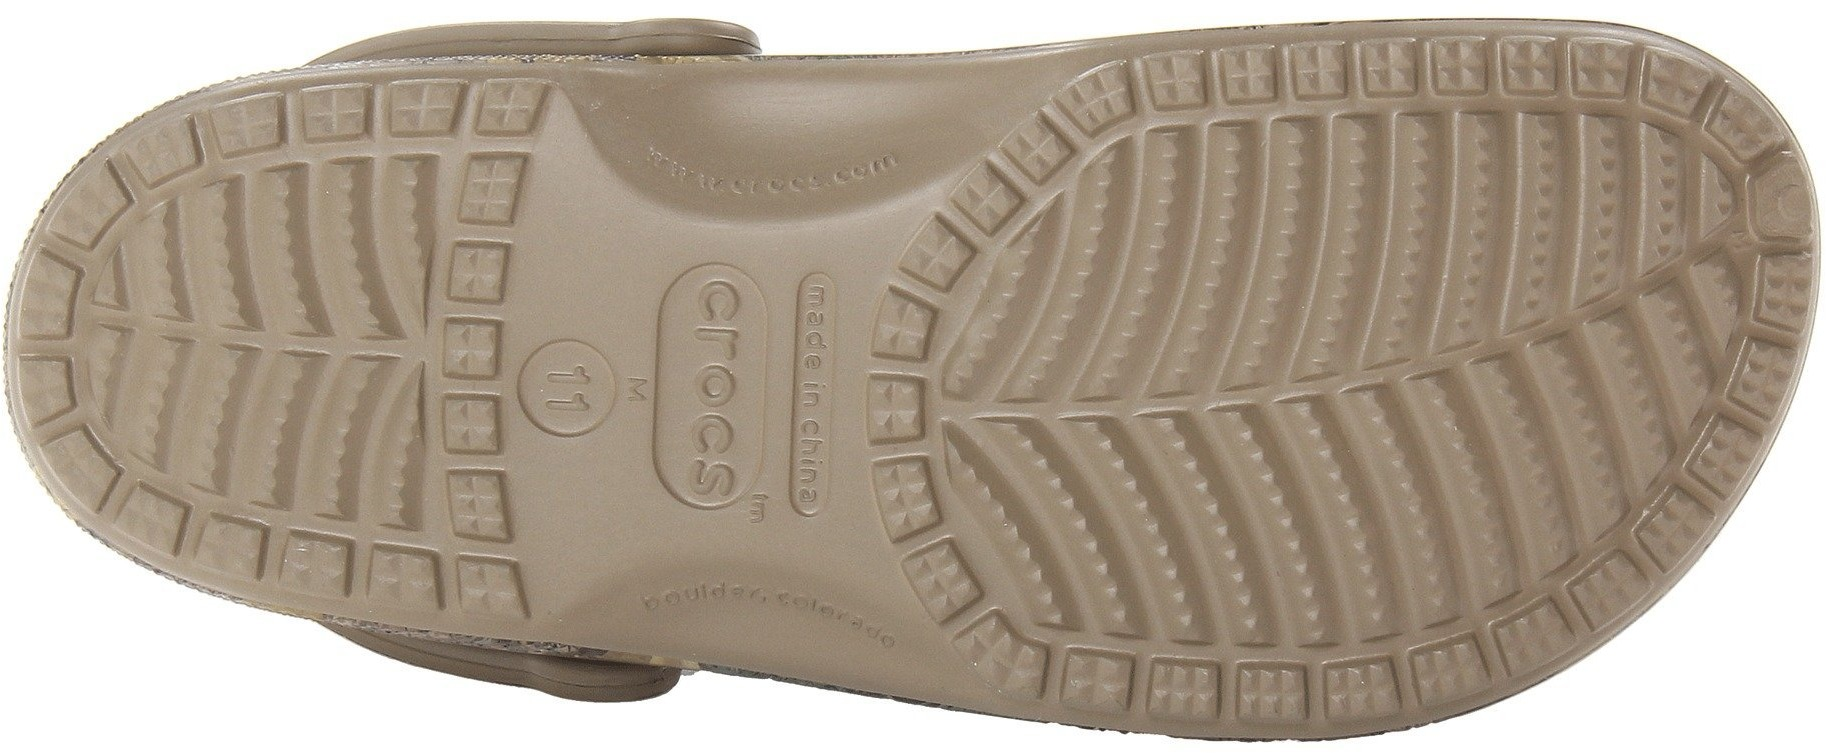circle: (498, 329, 653, 461)
quad: (1482, 3, 1643, 151)
text: (498, 329, 653, 461), (660, 376, 771, 488), (776, 280, 859, 361), (679, 285, 765, 362), (537, 351, 613, 425), (785, 428, 845, 503)
